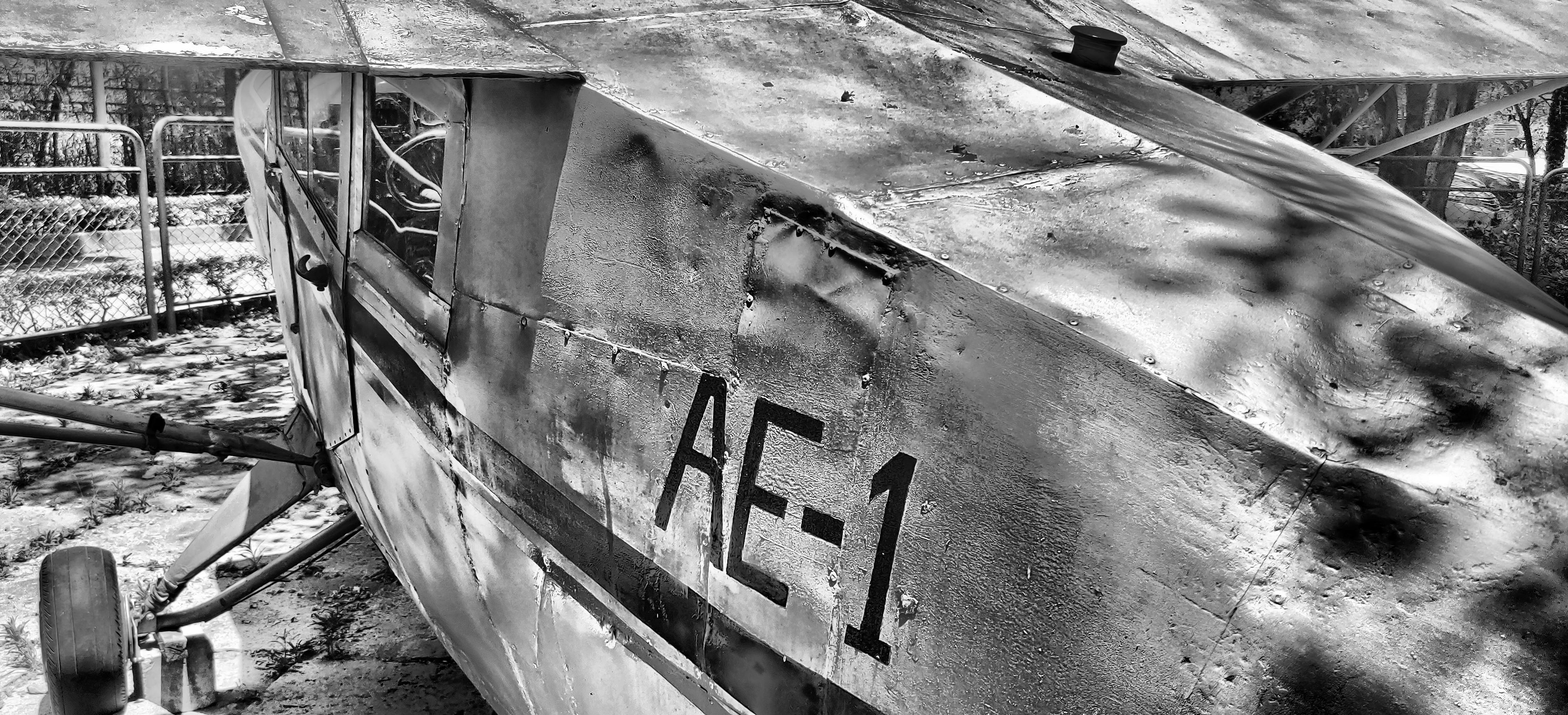crack: (552, 71, 589, 79), (367, 63, 401, 68), (447, 427, 455, 445), (454, 472, 459, 491)
dent: (1292, 468, 1409, 586), (793, 274, 855, 310), (623, 132, 664, 179), (793, 203, 830, 241), (870, 234, 903, 266), (432, 74, 468, 100), (444, 385, 468, 421), (441, 351, 453, 376)
missing-head: (421, 334, 427, 343), (305, 200, 309, 210), (358, 441, 363, 448), (348, 428, 352, 433), (393, 314, 396, 319), (339, 436, 342, 441), (344, 433, 347, 437), (334, 440, 336, 445), (330, 443, 332, 447)
paint-peel-off: (137, 39, 239, 57), (222, 4, 270, 25), (116, 43, 131, 54)
scratch: (1136, 564, 1229, 625), (1363, 285, 1416, 315), (1256, 461, 1292, 502)
